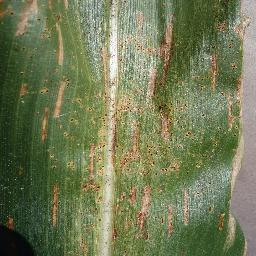Gray_Leaf_Spot: (0, 0, 251, 256), (108, 0, 252, 181), (0, 181, 249, 254), (0, 1, 117, 55), (33, 106, 114, 173), (30, 54, 111, 114), (6, 79, 26, 95), (14, 72, 30, 79)
